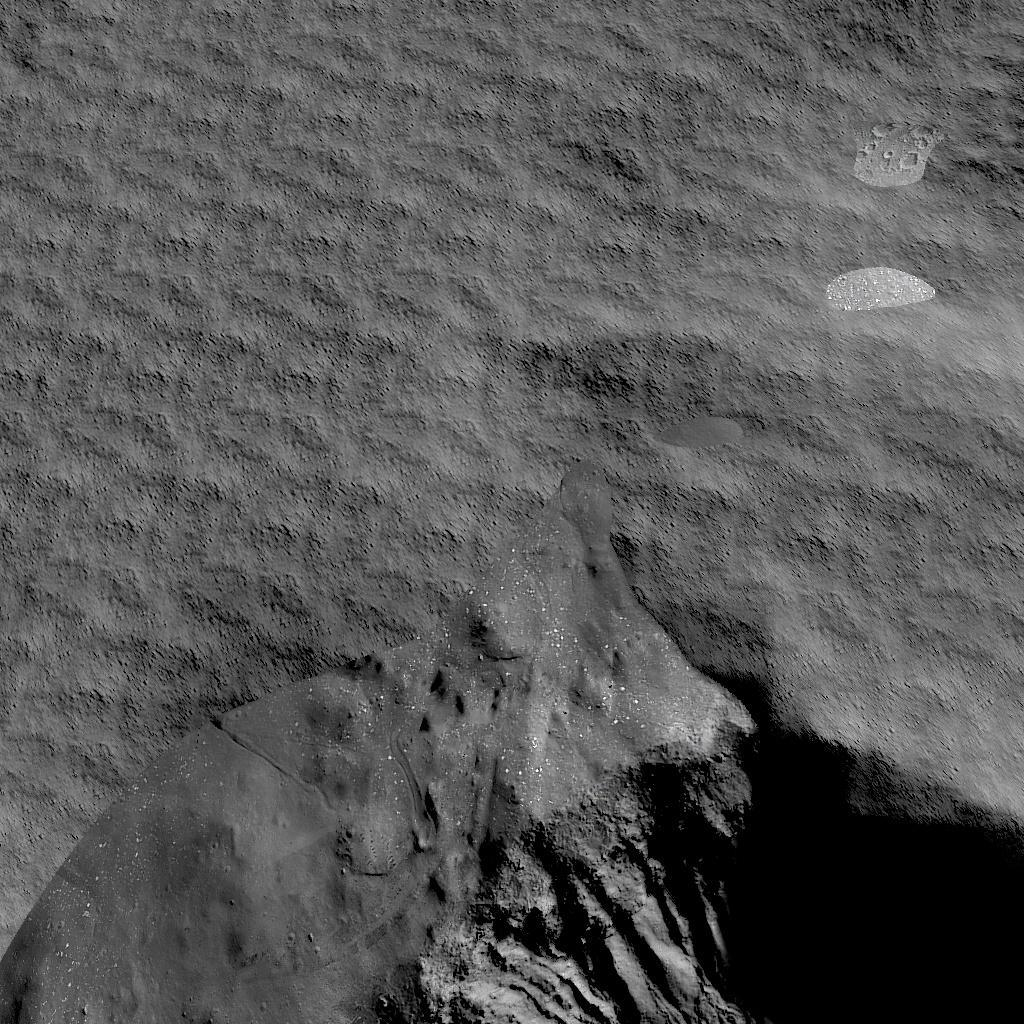Crater: (0, 652, 1024, 1024)
Plan surface: (0, 0, 1024, 638)
